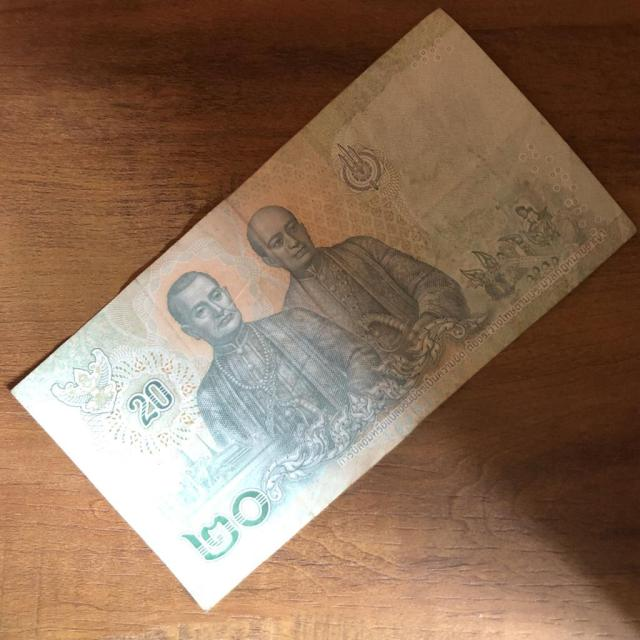THAI20: (12, 11, 634, 609)
